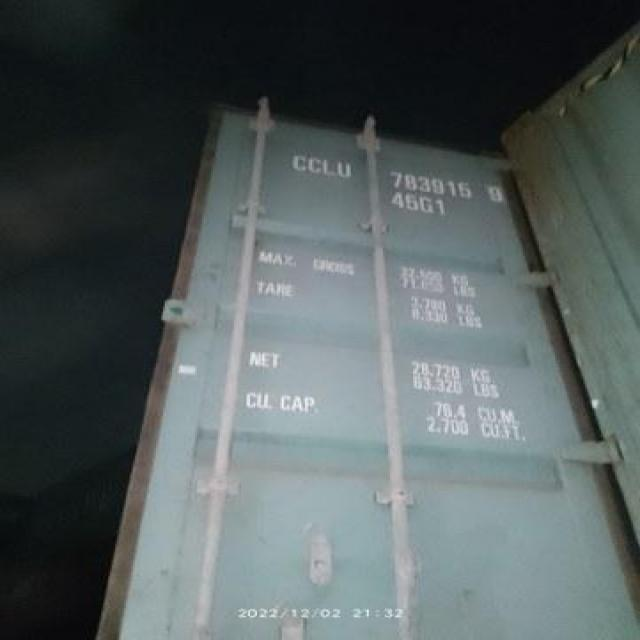ISO: (392, 195, 448, 216)
container_number: (291, 148, 508, 204)
